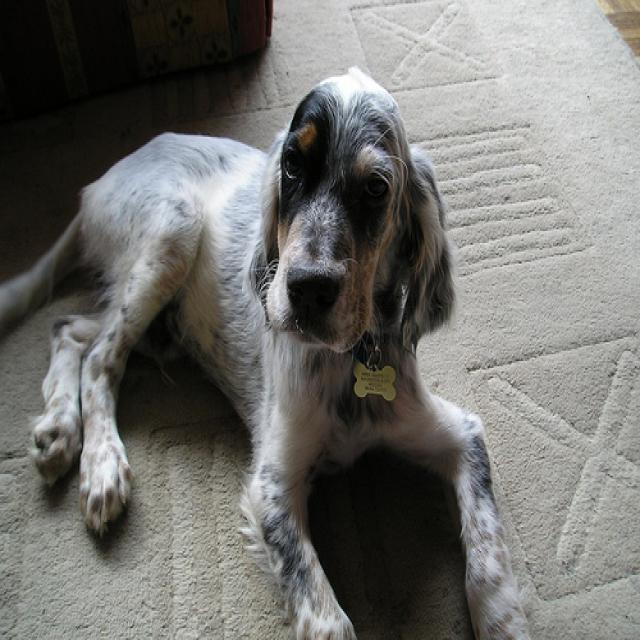dog-english_setter: (1, 60, 539, 637)
